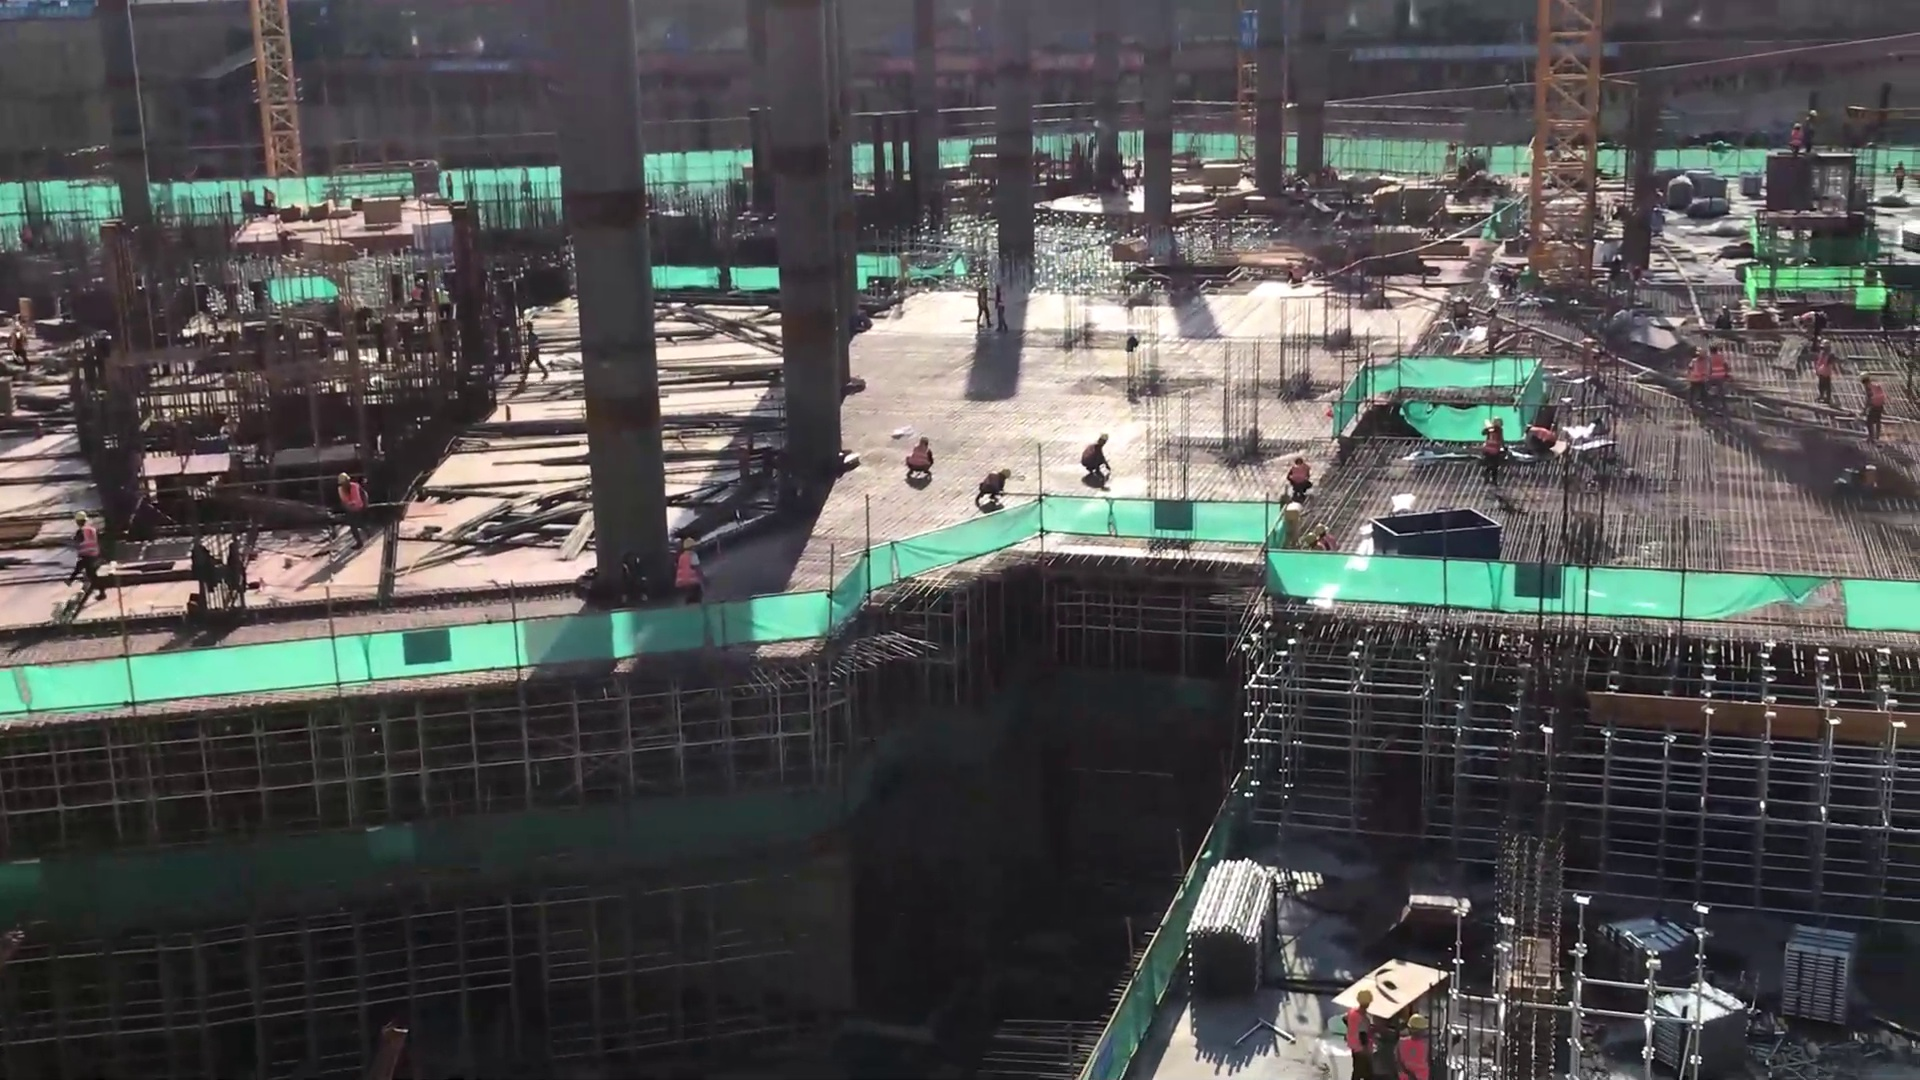person: (70, 507, 106, 596), (1343, 987, 1380, 1065), (1397, 1017, 1441, 1080), (335, 468, 370, 539), (1473, 412, 1506, 480), (675, 531, 708, 597), (1855, 371, 1884, 444), (904, 433, 936, 488), (520, 319, 549, 377), (1077, 431, 1111, 479), (1706, 339, 1727, 406), (1814, 336, 1832, 404), (1686, 349, 1706, 407), (977, 465, 1009, 501), (1286, 456, 1313, 495), (1484, 306, 1504, 352), (1523, 419, 1552, 449), (1803, 108, 1820, 153), (975, 282, 990, 327), (994, 284, 1009, 332), (1790, 120, 1803, 160)
scaffold: (1183, 854, 1273, 983), (1658, 980, 1744, 1065), (1782, 918, 1843, 1029), (1609, 911, 1690, 988)
